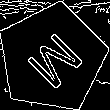M_SE: (18, 23, 87, 92)
